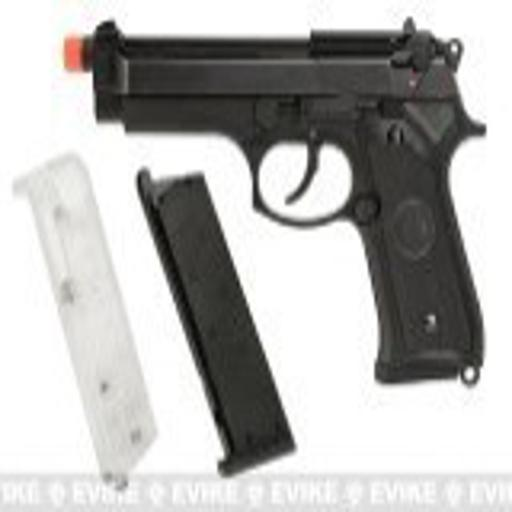Handgun: (59, 16, 488, 395)
